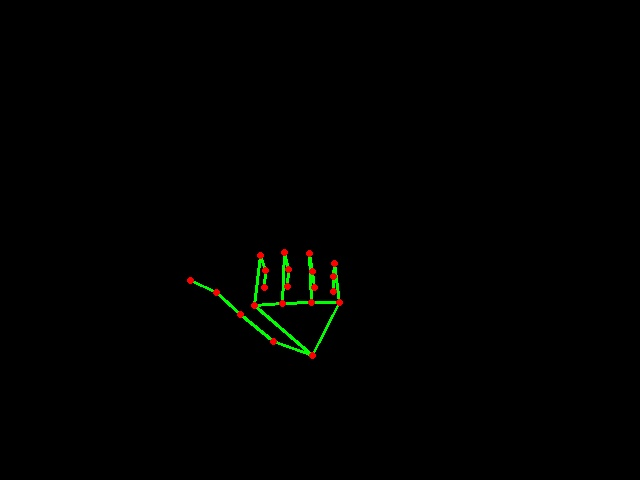right: (168, 242, 356, 373)
